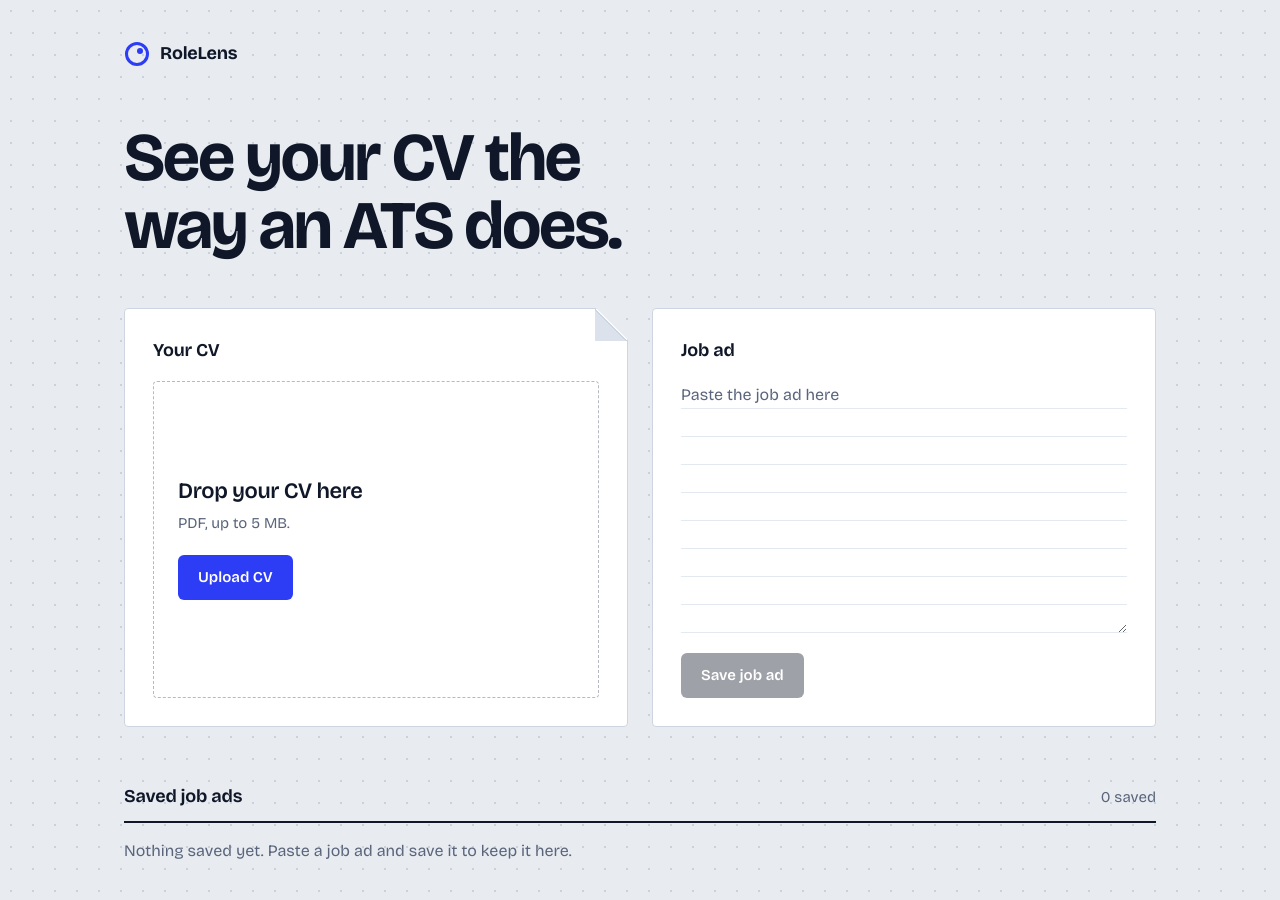
saving a job ad › shows the server's message and keeps the text when saving fails
The width and height of the screenshot is (1280, 900).
Type "Backend Engineer" into the text box labelled "Job ad" at [904, 507], box x1=681 y1=381 x2=1127 y2=633
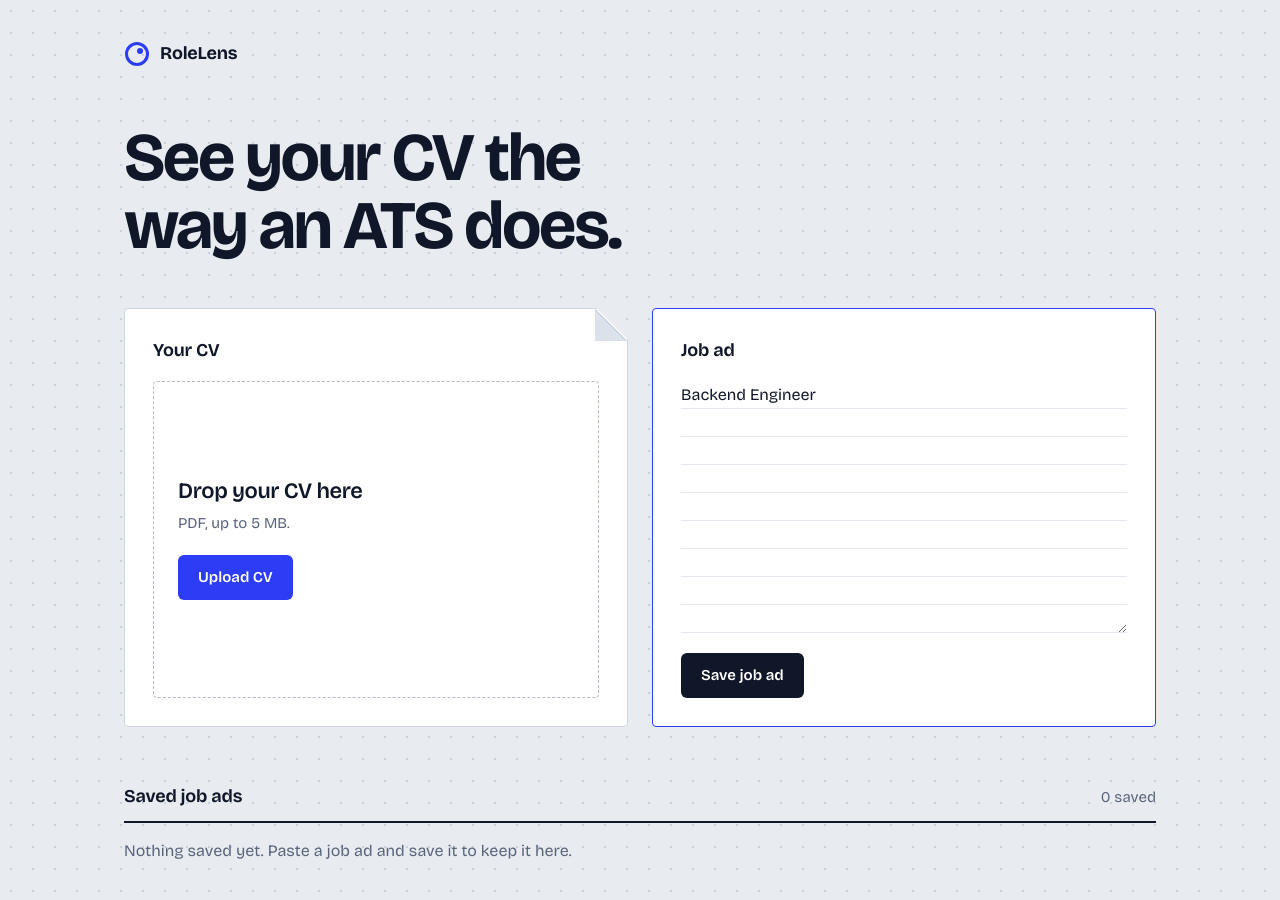
Click the button "Save job ad" at [742, 675], box x1=681 y1=653 x2=804 y2=698
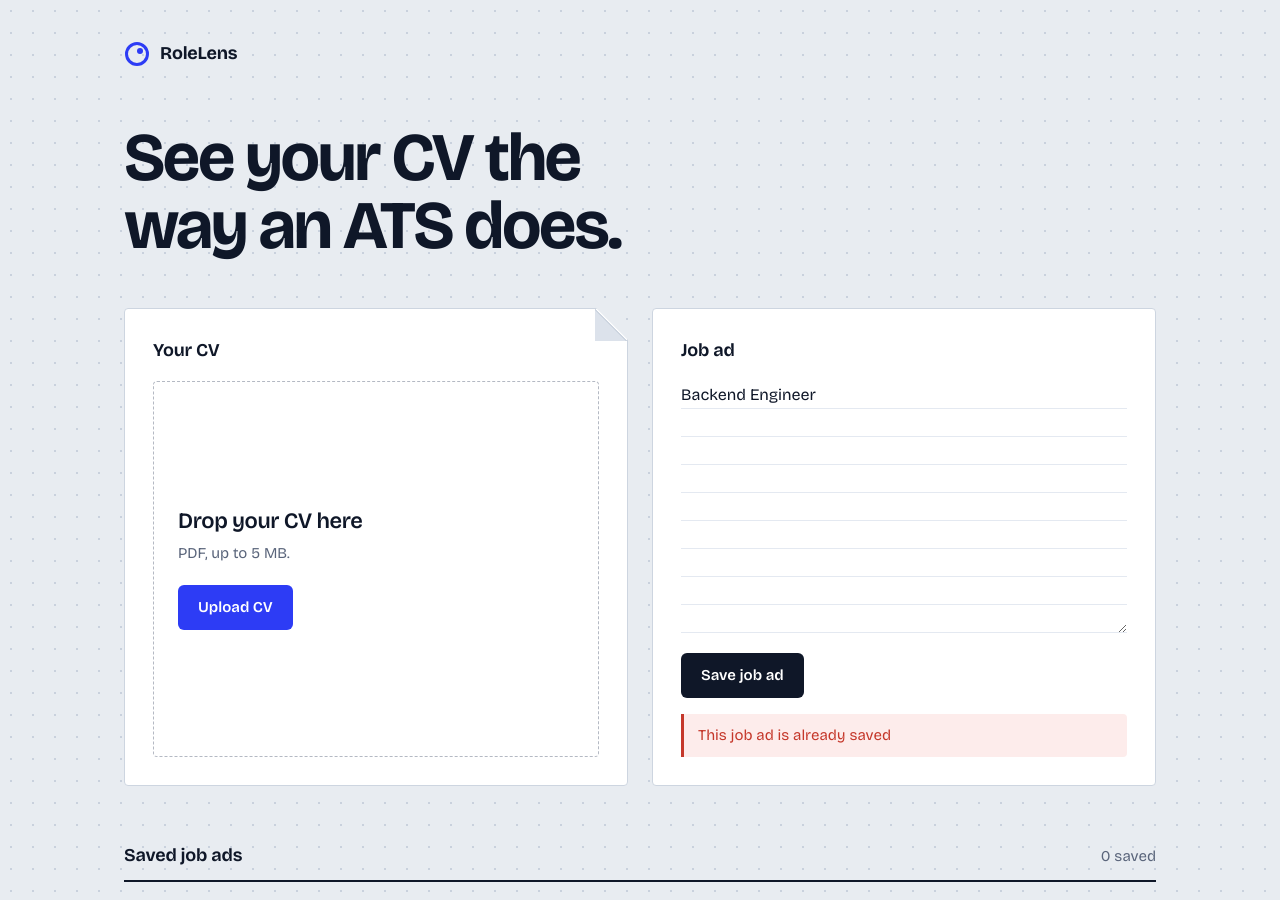
Expected: the message reads "This job ad is already saved", x1=698 y1=726 x2=891 y2=744
